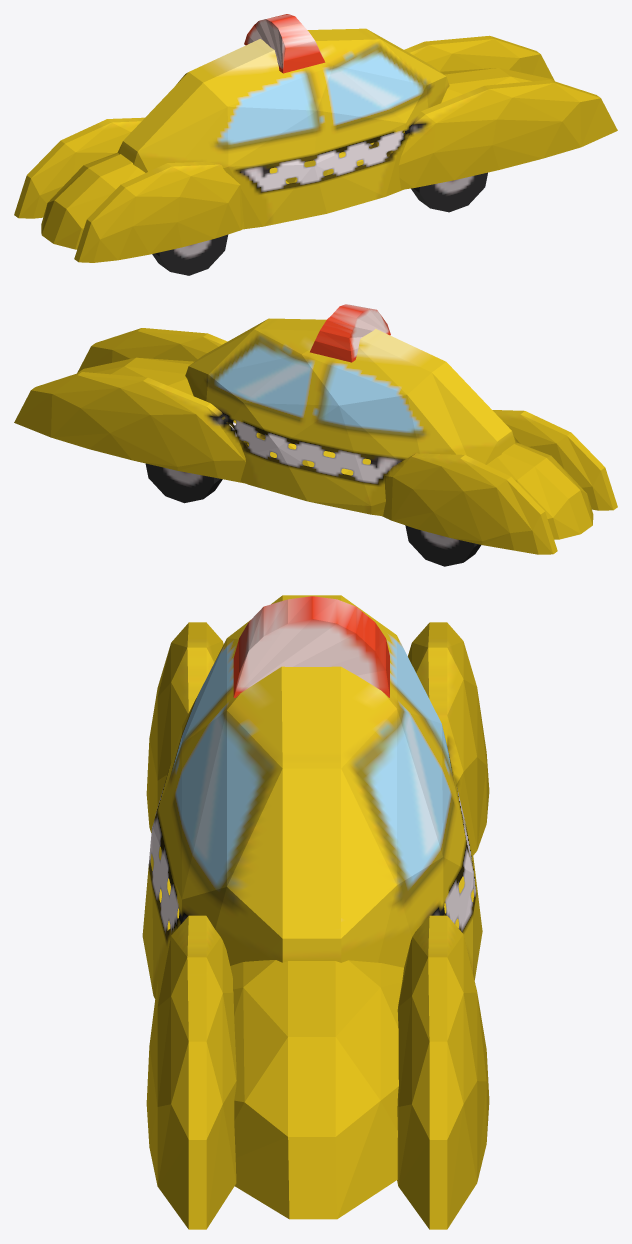
Rendered from Taxi2.glb.
3 renders of one model, top to bottom at view 1: azimuth 30°, elevation 25°; view 2: azimuth 150°, elevation 25°; view 3: azimuth 270°, elevation 25°, orthographic. The views are drawn at different scales.
Parts seen in each view (by area): view 1: Taxi2; view 2: Taxi2; view 3: Taxi2.
Boxes of the visible parts, x1,y1,x2,y2 form: Taxi2: (14,14,617,275); Taxi2: (14,304,617,566); Taxi2: (142,595,489,1229).
Bounding box in the file's own units: 109 × 38.51 × 30.44.
Materials: 1 (1 with a texture image).
